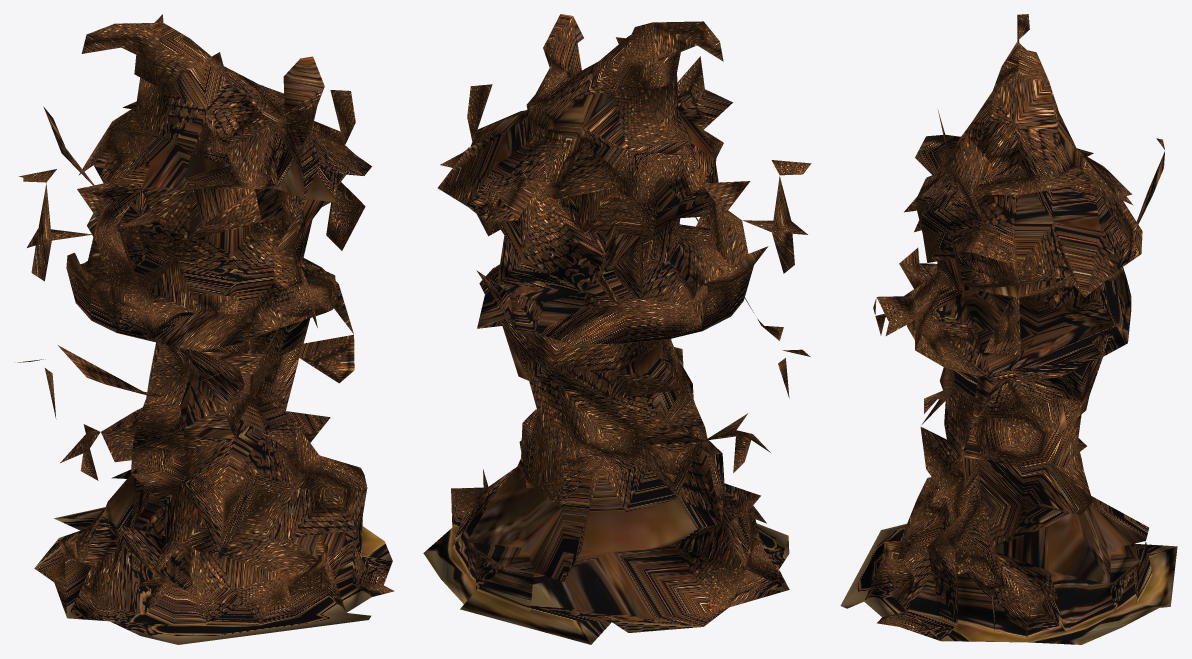
Rendered from house-horror.lod.glb.
3 views of the same model, side by side, from view 1: azimuth 30°, elevation 25°; view 2: azimuth 150°, elevation 25°; view 3: azimuth 270°, elevation 25° (orthographic). The views are drawn at different scales.
Parts seen in each view (by area): view 1: tripo_node_bed929dd-4fbb-4777-a5d9-28747901c20d; view 2: tripo_node_bed929dd-4fbb-4777-a5d9-28747901c20d; view 3: tripo_node_bed929dd-4fbb-4777-a5d9-28747901c20d.
Part boxes in pixels (<box>): tripo_node_bed929dd-4fbb-4777-a5d9-28747901c20d: <box>17,14,394,644</box>; tripo_node_bed929dd-4fbb-4777-a5d9-28747901c20d: <box>423,14,811,644</box>; tripo_node_bed929dd-4fbb-4777-a5d9-28747901c20d: <box>840,14,1177,644</box>.
Bounding box in the file's own units: 0.6327 × 0.9759 × 0.5733.
Materials: 1 (1 with a texture image).
